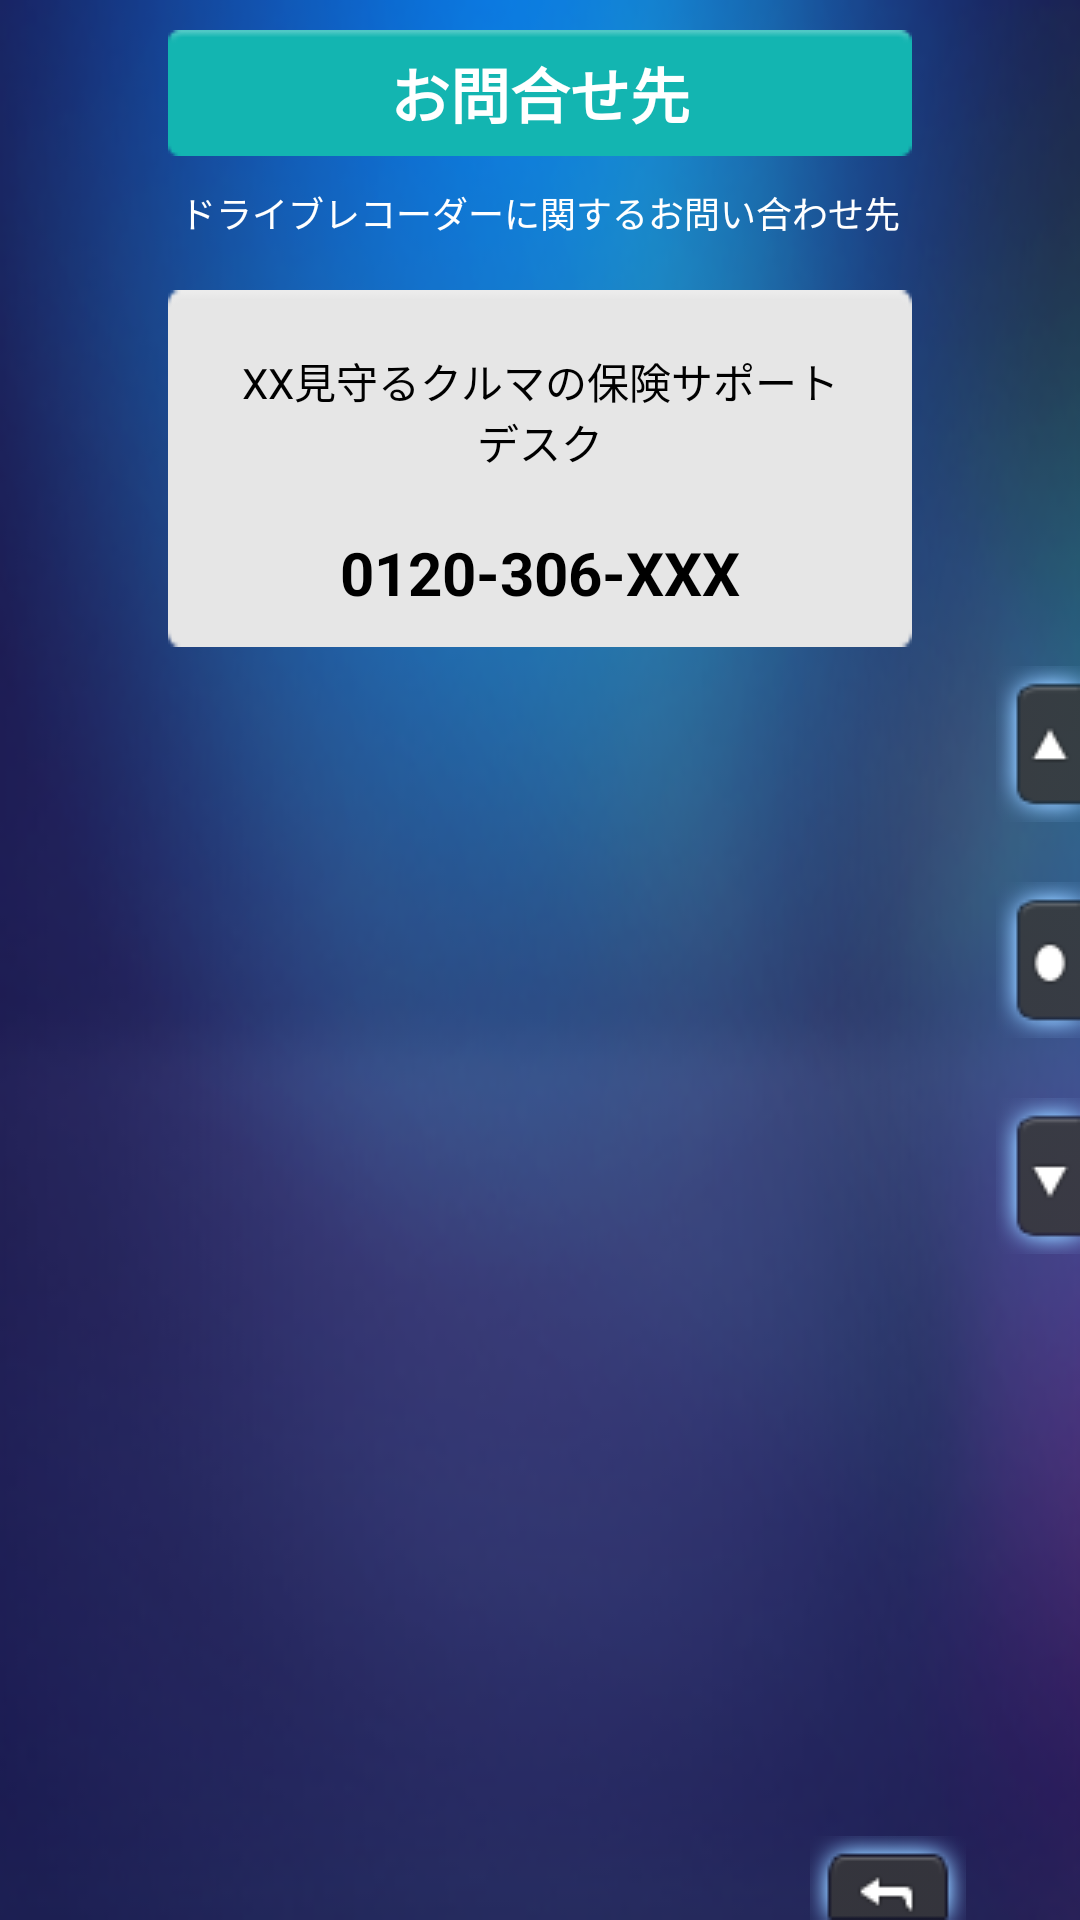

Icon click points for this 1080px x 1920px phone screenshot, format point (x, y):
tag menu main back: point (887, 1879)
tag menu main enter: point (1041, 961)
tag menu main movedown: point (1040, 1175)
tag menu main moveup: point (1041, 745)
